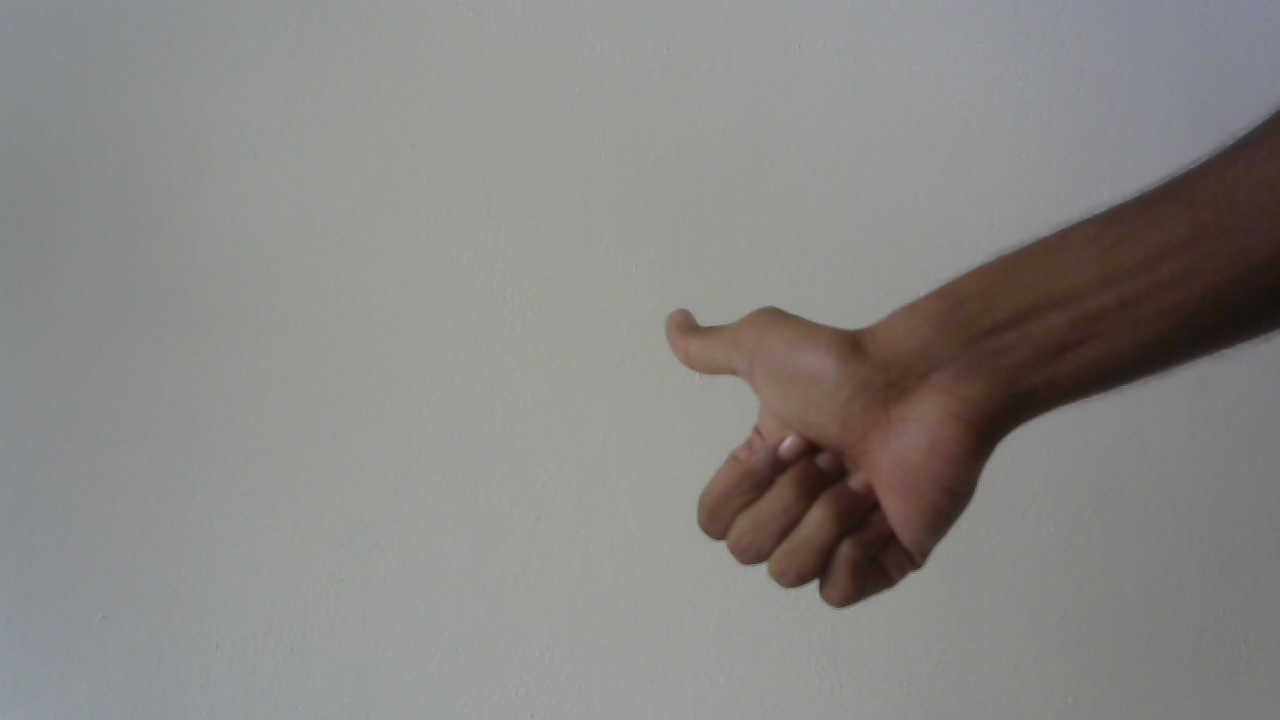thumbsup: (650, 287, 1013, 622)
